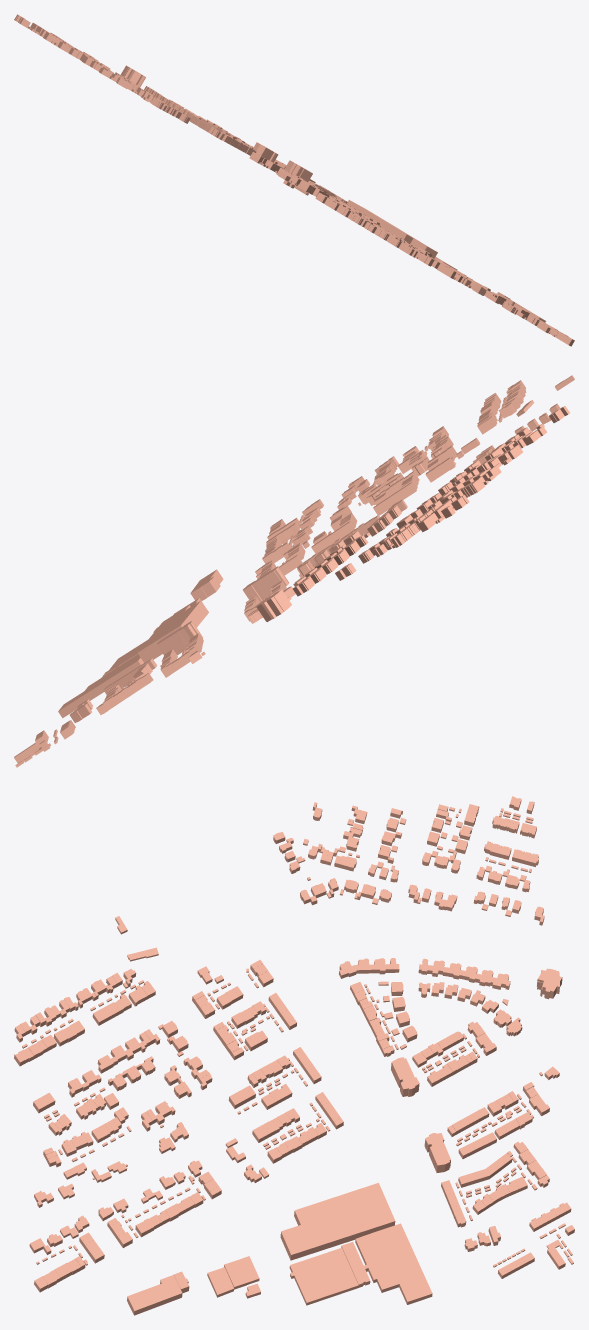
3 renders of one model, top to bottom at view 1: azimuth 30°, elevation 25°; view 2: azimuth 150°, elevation 25°; view 3: azimuth 270°, elevation 25°, orthographic. The views are drawn at different scales.
Size of the model in its own units: 539 by 394 by 626.
